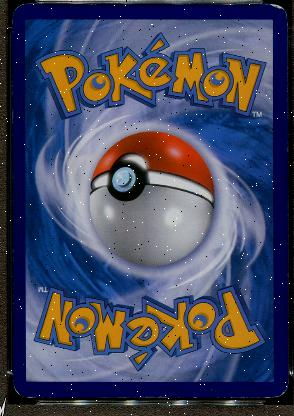Card: (9, 1, 289, 400)
Corner Wear: (10, 2, 34, 34), (265, 2, 287, 28), (261, 378, 287, 398), (12, 380, 37, 400)
Edge Wear: (285, 85, 287, 157), (12, 74, 14, 140), (136, 396, 196, 398), (284, 183, 286, 239), (213, 396, 258, 398), (92, 396, 135, 398), (12, 248, 13, 320), (12, 190, 13, 242), (285, 272, 287, 292), (12, 160, 13, 182)
Scratch: (205, 384, 216, 396), (275, 310, 284, 316), (276, 294, 284, 300), (125, 4, 128, 16)
